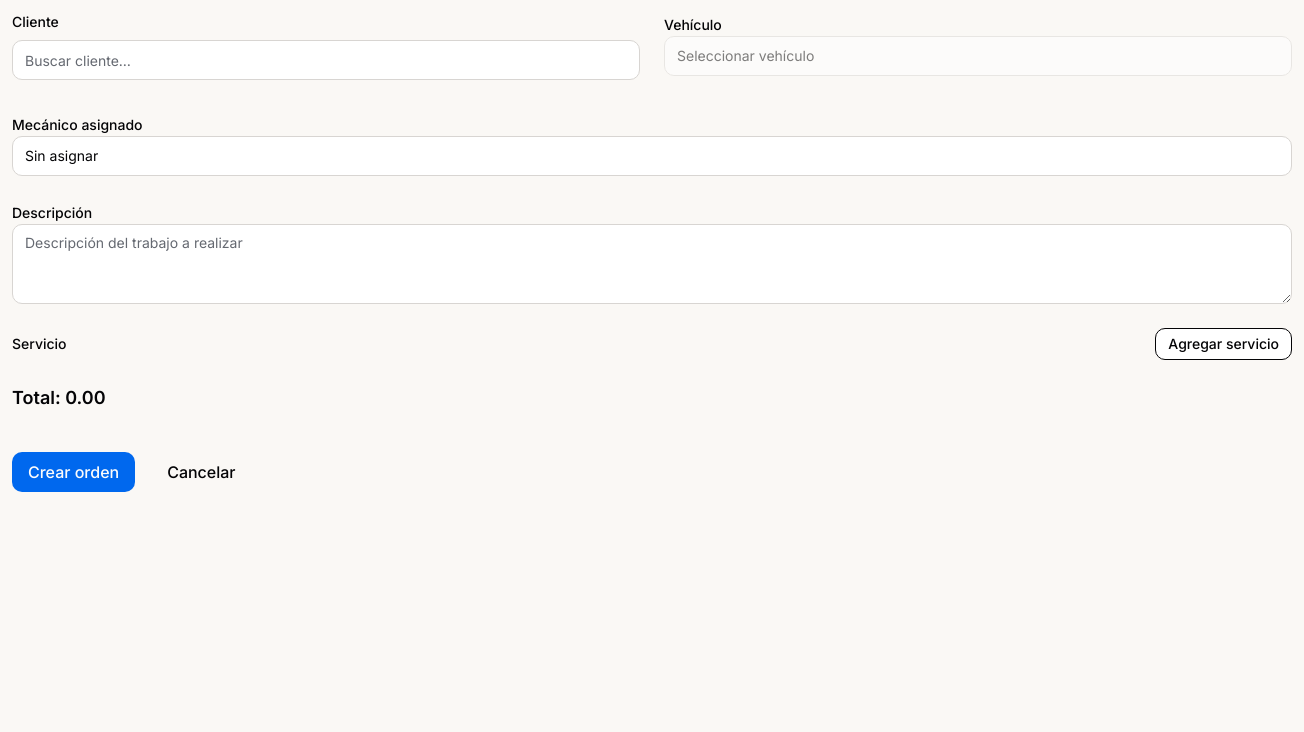
WorkOrderForm › S5: requires client, vehicle and at least one service line
What coordinates should you click on to do the following:
click the button "Crear orden"
I would click on:
 (74, 472)
Its box is [12, 452, 135, 492].
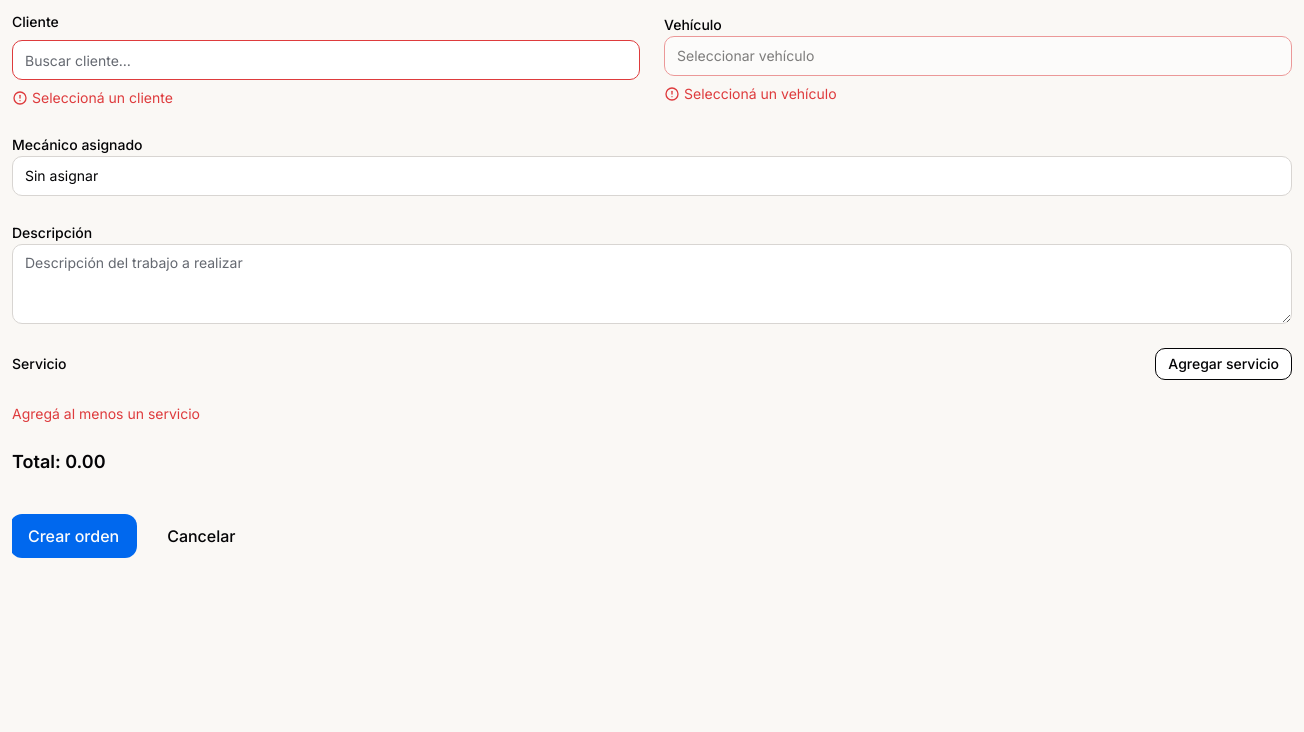
Now the text "Seleccioná un cliente" is shown, box [12, 89, 173, 106]
Now the text "Seleccioná un vehículo" is shown, box [664, 85, 836, 102]
Now the message reads "Agregá al menos un servicio", box [12, 405, 200, 422]
